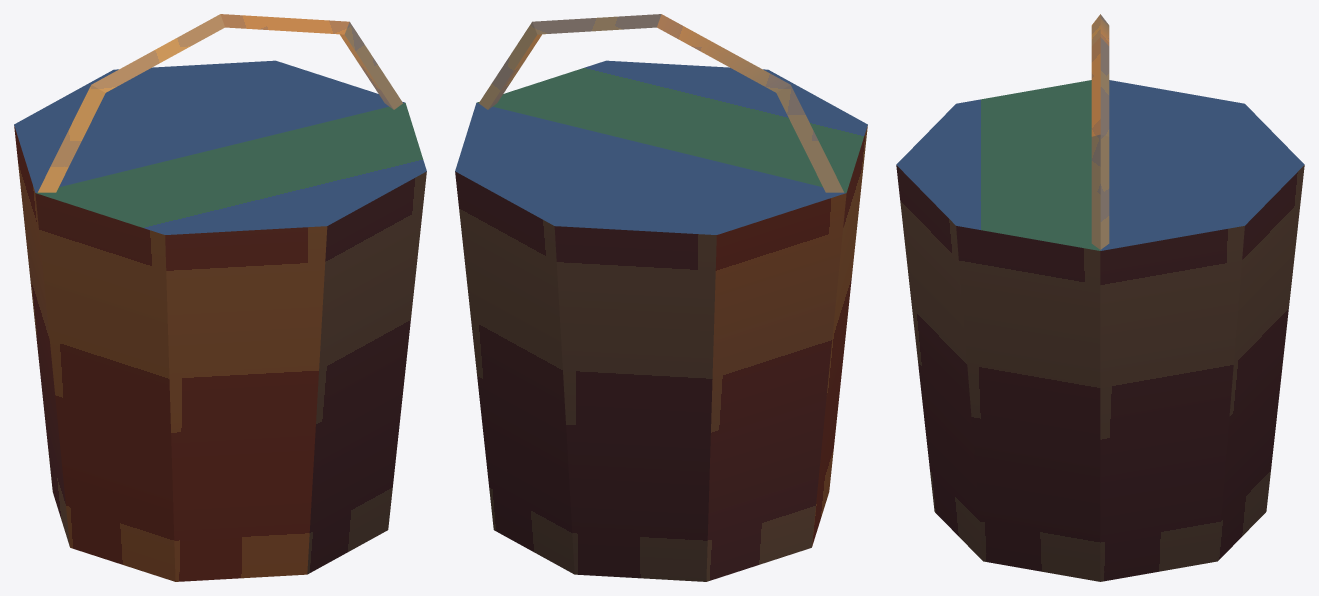
File: wprop.bucket.glb
3 renders of one model, left to right at view 1: azimuth 30°, elevation 25°; view 2: azimuth 150°, elevation 25°; view 3: azimuth 270°, elevation 25°, orthographic. The views are drawn at different scales.
Parts seen in each view (by area): view 1: kit_bucket, kit_bail; view 2: kit_bucket, kit_bail; view 3: kit_bucket, kit_bail.
Boxes of the visible parts, bbox=[...] form: kit_bucket: bbox=[14, 60, 426, 581]; kit_bail: bbox=[38, 14, 402, 192]; kit_bucket: bbox=[455, 60, 867, 581]; kit_bail: bbox=[479, 14, 843, 192]; kit_bucket: bbox=[896, 80, 1304, 581]; kit_bail: bbox=[1091, 14, 1109, 249].
Bounding box in the file's own units: 0.32 × 0.4106 × 0.32.
Materials: 4 (4 with a texture image).
